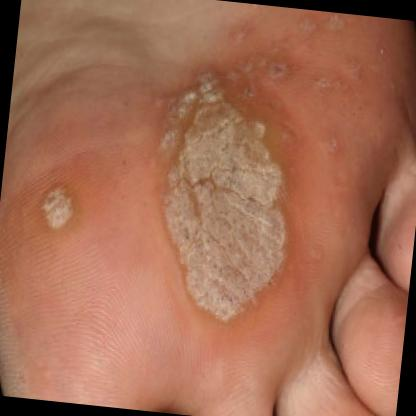Warts: (136, 45, 309, 372), (27, 167, 89, 254)
